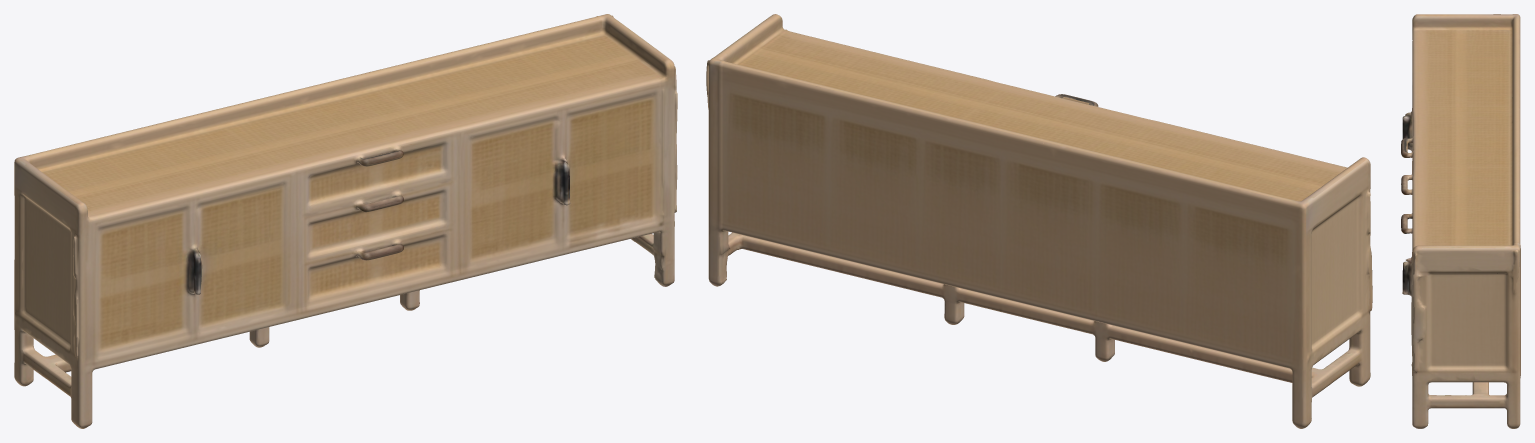
File: product-coastal-caprice-96-sideboard-natural-mango-03.glb
3 views of the same model, side by side, from view 1: azimuth 30°, elevation 25°; view 2: azimuth 150°, elevation 25°; view 3: azimuth 270°, elevation 25° (orthographic). The views are drawn at different scales.
Parts seen in each view (by area): view 1: geometry_0; view 2: geometry_0; view 3: geometry_0.
Part boxes in pixels (x1=…): geometry_0: x1=14, y1=14, x2=677, y2=428; geometry_0: x1=706, y1=14, x2=1372, y2=428; geometry_0: x1=1401, y1=14, x2=1520, y2=428.
Bounding box in the file's own units: 1.99 × 0.7174 × 0.425.
1 material, 1 textured.
